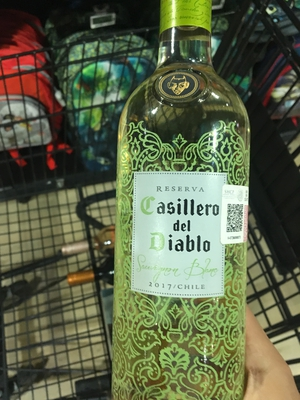casillero del diablo sauvignon blanc: (94, 19, 265, 400)
